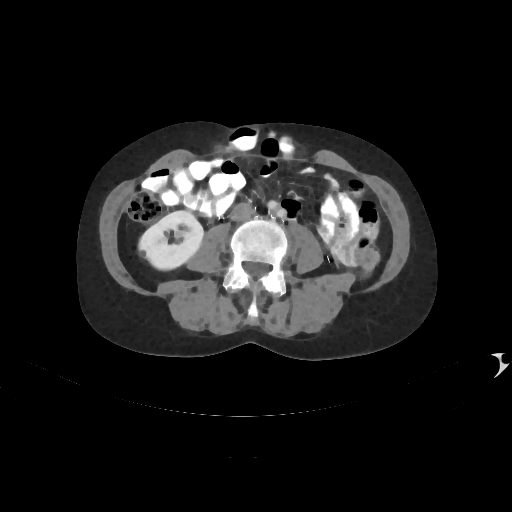Lesion: (135, 248, 150, 259)
